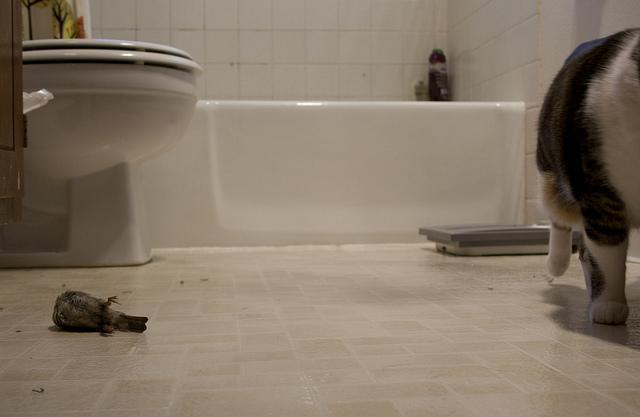Otro Obstaculo: (534, 25, 638, 329)
Sanitario: (1, 26, 215, 270)
